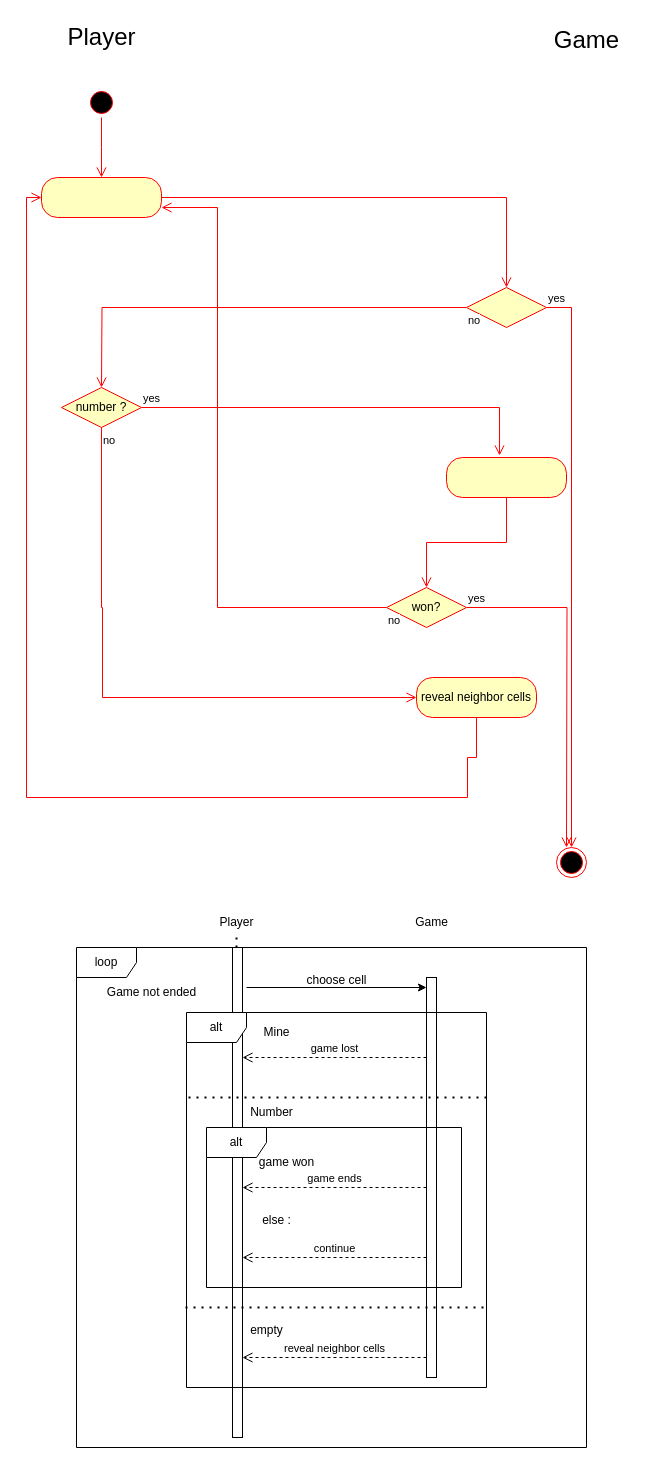
Some shapes in this 649 by 1465 pixel diagram are drawn without their labels. The centre of each missing label's shape, as x and y in pixels:
Choose a cell: the point at 101,197
mine ?: the point at 506,307
number revealed: the point at 506,477
